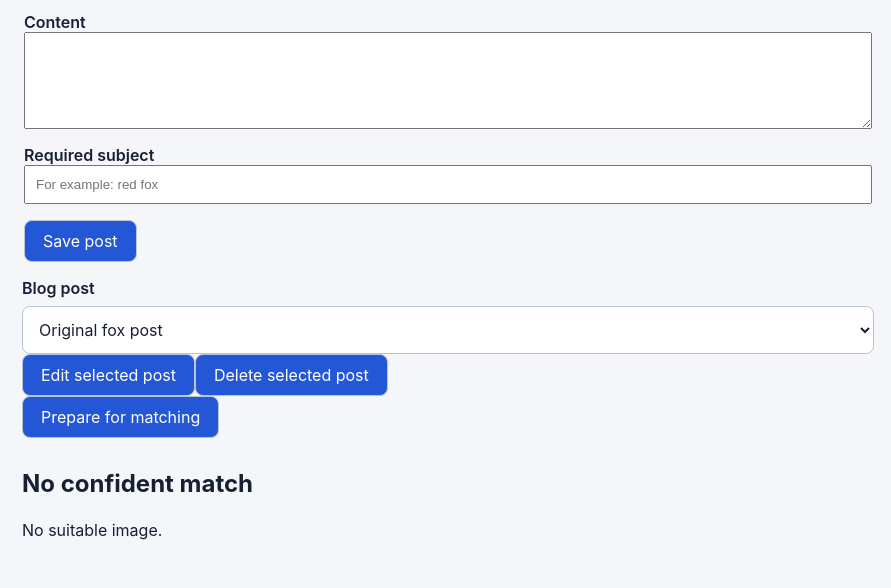
Test: saving refreshes the selected post and resets preparation progress
This screenshot has width=891, height=588.
(page scrolled)
Expected: the heading "No confident match" is shown, [22,469,253,498]
Click the button "Prepare for matching" at (121, 417), box [22,396,219,438]
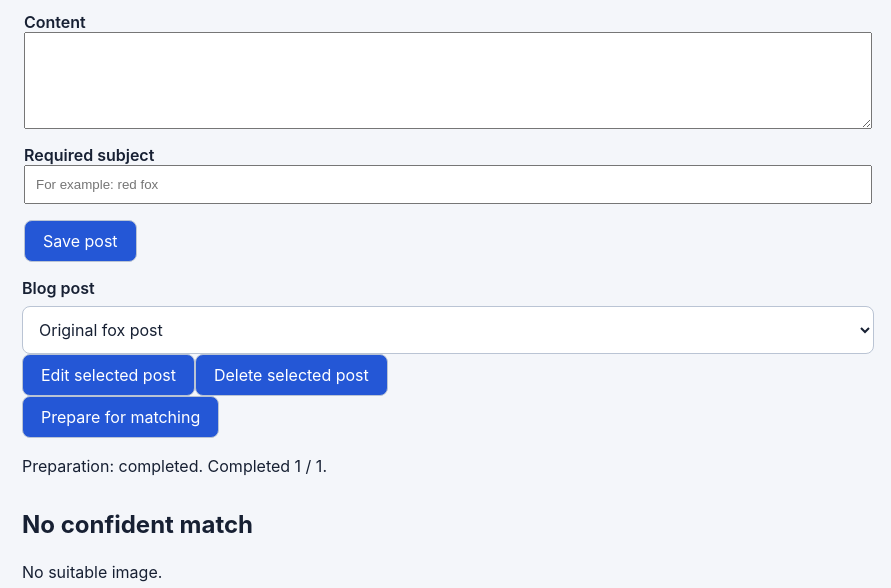
Result: the text "Preparation: completed. Completed 1 / 1." is shown at [22,456,327,476]
Click the button "Edit selected post" at (108, 375), box [22,354,195,396]
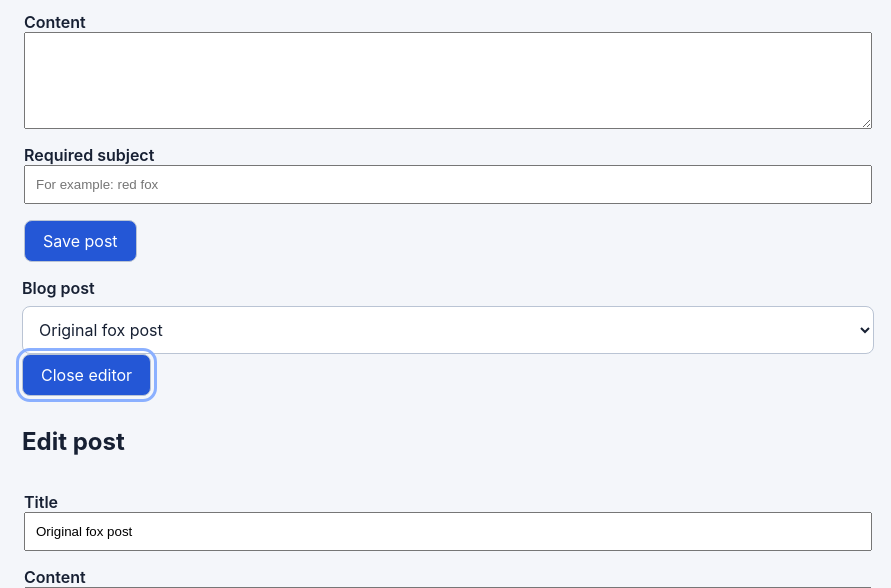
Replace the text in the field labelled "Title" below "Edit post" with "Updated forest post" at (448, 532), box [24,512,872,551]
(page scrolled)
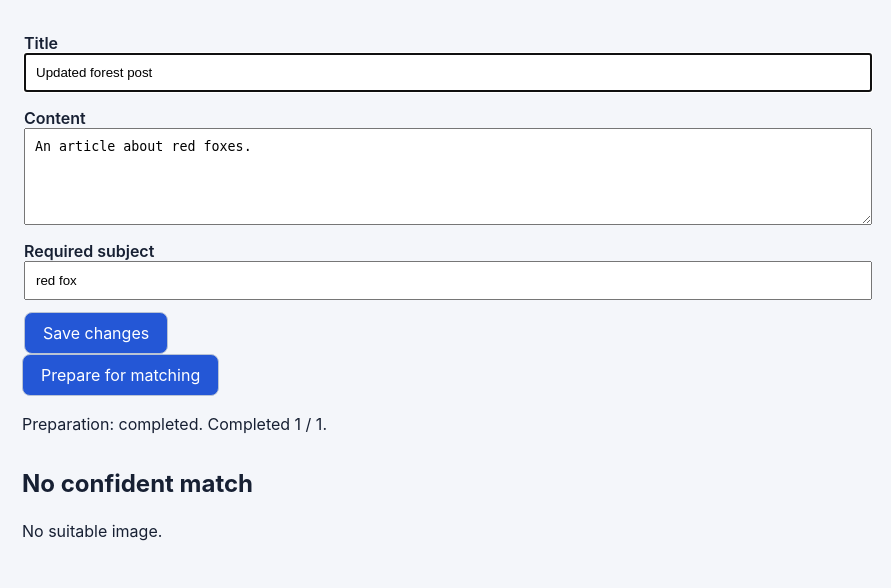
Replace the text in the field labelled "Required subject" with "forest" at (448, 281), box [24,261,872,300]
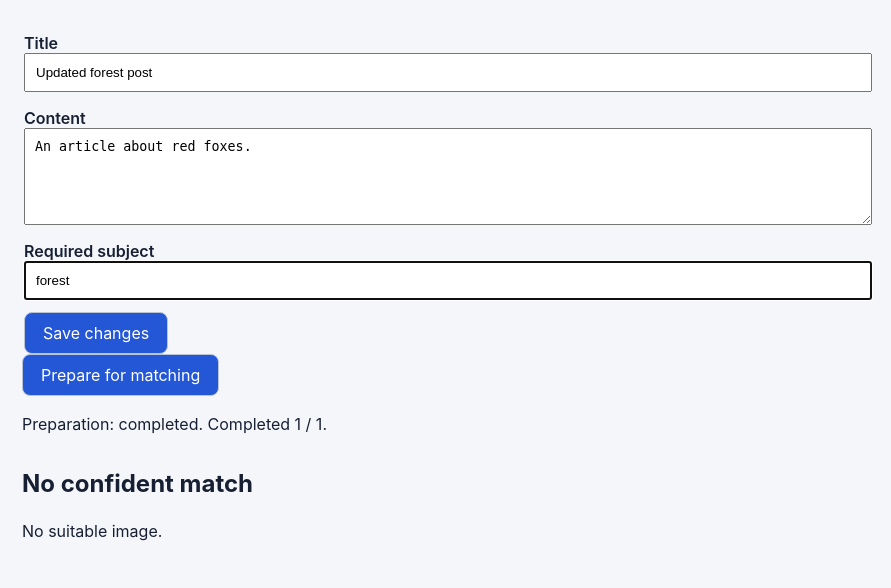
Click the button "Save changes" at (96, 333), box [24,312,168,354]
(page scrolled)
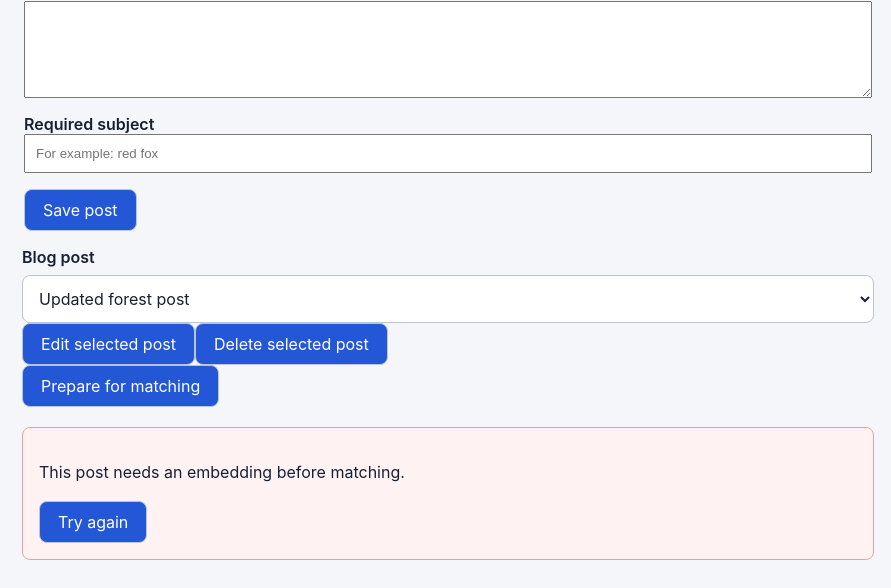
Result: the dropdown labelled "Blog post" shows "Updated forest post" at [22,275,874,323]
Result: the text "Preparation: completed" is gone
Result: the message shows "This post needs an embedding before matching." at [39,462,405,482]
